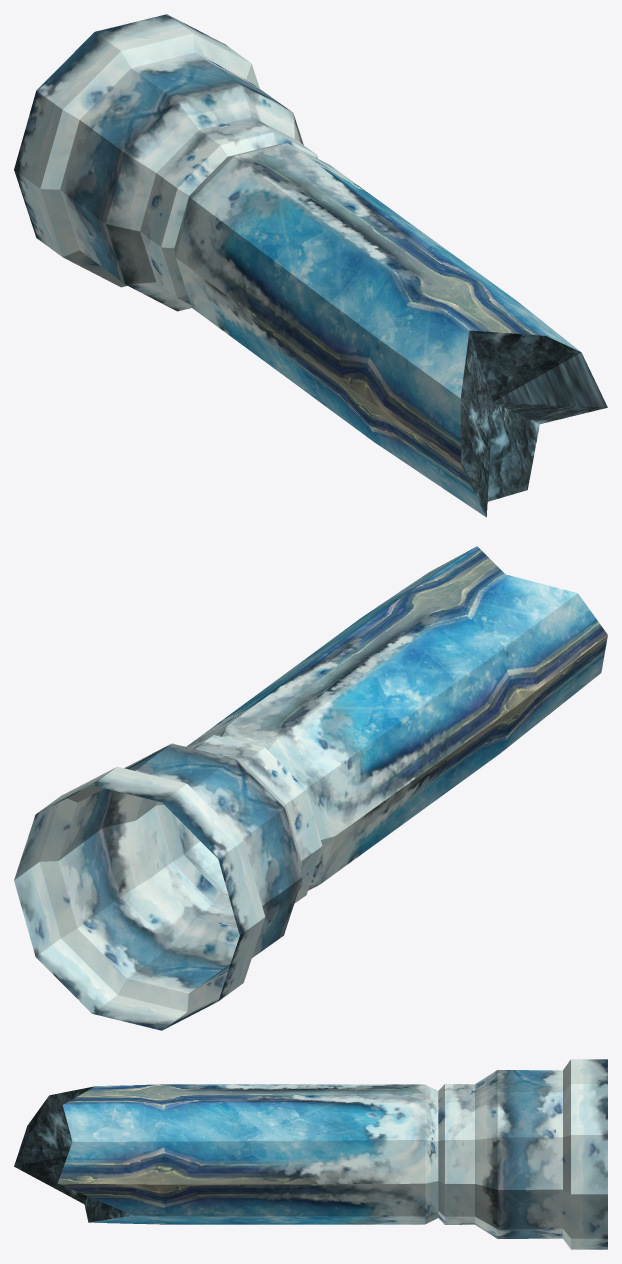
File: juqing_fuben_337_zhuzi02.obj
3 renders of one model, top to bottom at view 1: azimuth 30°, elevation 25°; view 2: azimuth 150°, elevation 25°; view 3: azimuth 270°, elevation 25°, orthographic. The views are drawn at different scales.
Parts seen in each view (by area): view 1: juqing_fuben_337_zhuzi01; view 2: juqing_fuben_337_zhuzi01; view 3: juqing_fuben_337_zhuzi01.
Boxes of the visible parts, x1,y1,x2,y2 form: juqing_fuben_337_zhuzi01: [14, 14, 607, 517]; juqing_fuben_337_zhuzi01: [14, 546, 607, 1030]; juqing_fuben_337_zhuzi01: [14, 1059, 607, 1249].
Size of the model in its own units: 72.46 by 70.02 by 227.
3 materials, 3 textured.
